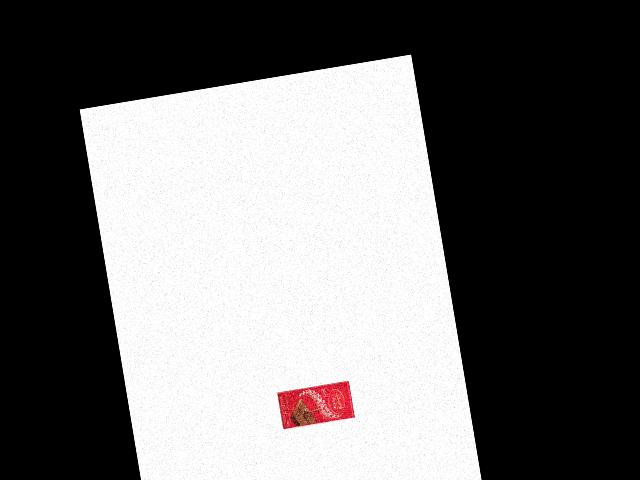chocolate: (277, 379, 355, 433)
